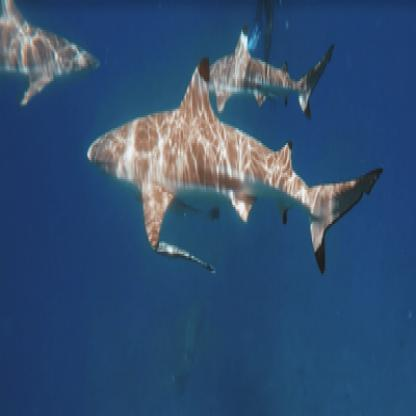Shark -Selachimorpha-: (87, 57, 387, 276), (205, 29, 338, 116), (1, 1, 101, 106)
